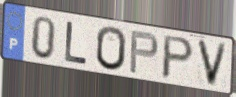0: (30, 15, 57, 61)
L: (63, 19, 89, 66)
O: (95, 24, 128, 72)
P: (160, 34, 196, 81), (127, 29, 160, 76)
V: (195, 37, 230, 89)
